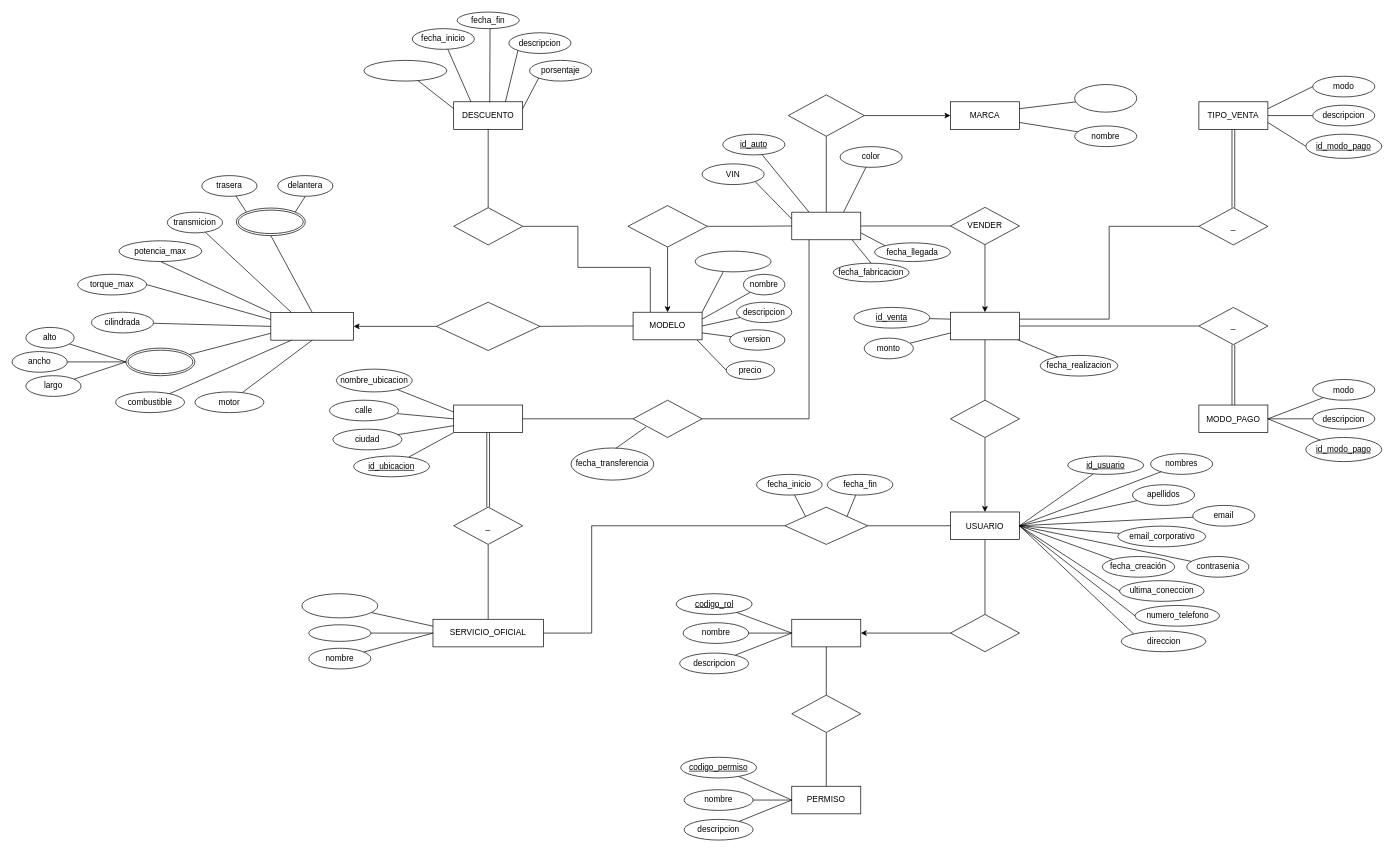
Image size: 1394x852. Some labels were removed from this diagram. The shapes that lost their labels are listed below. From the top down, each one's centre as x and y in pixels, then its label:
the point at 405,70: codigo_descuento
the point at 826,115: FABRICAR
the point at 1105,98: id_marca
the point at 270,221: suspencion
the point at 488,226: OFERTAR
the point at 667,226: PERTENECER
the point at 826,225: AUTO
the point at 732,261: codigo_modelo
the point at 312,326: FICHA_TECNICA
the point at 488,326: CORRESPONDER
the point at 984,326: VENTA
the point at 160,361: dimenciones
the point at 488,418: UBICACION
the point at 667,418: TRANFERIR
the point at 984,418: REALIZAR
the point at 826,525: ASIGNAR
the point at 339,605: id_servicio_oficial
the point at 339,632: nif
the point at 826,633: ROL
the point at 984,633: DESIGNAR
the point at 826,713: PERMITIR
